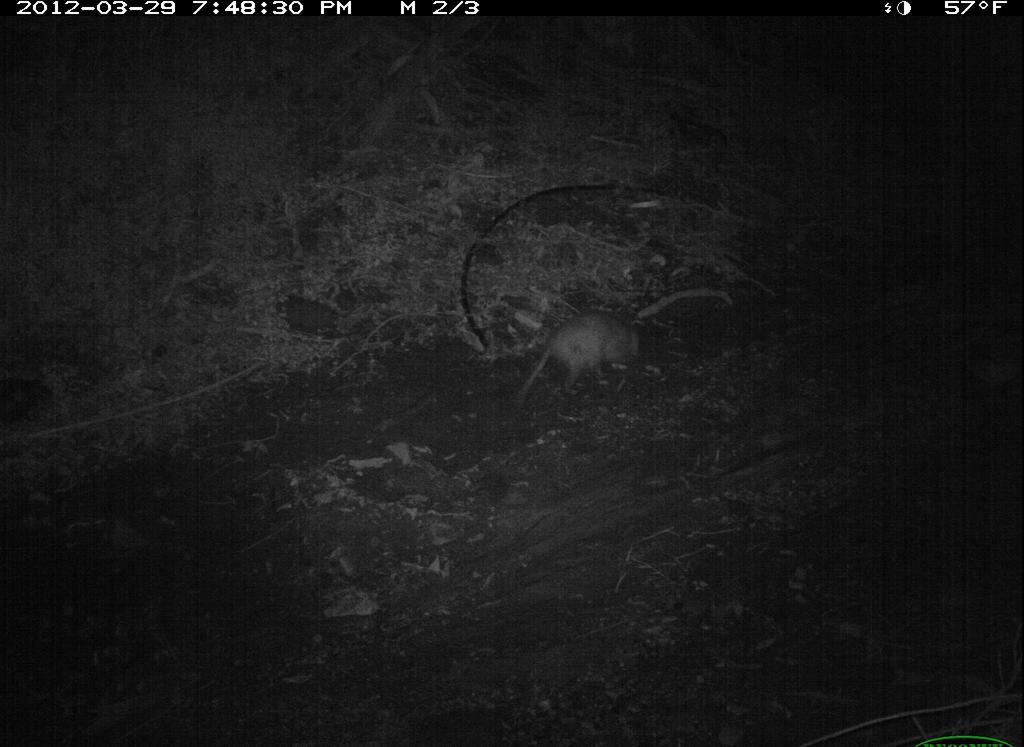opossum: (498, 285, 666, 418)
